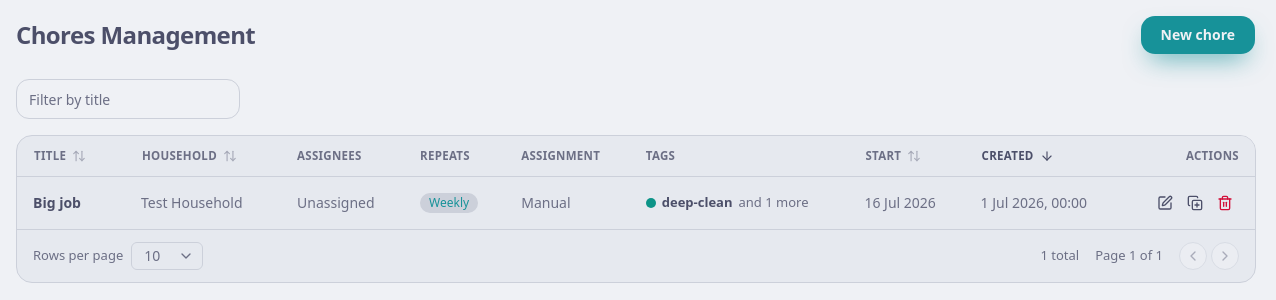
it: Chores › collapses many tags to the first plus an "and N more" hover tooltip
Expected: the text "and 1 more" is shown, [738, 193, 808, 212]
Expected: the text "shared" is not shown
Hover over the button "deep-clean and 1 more" at (727, 202), box [646, 193, 808, 212]
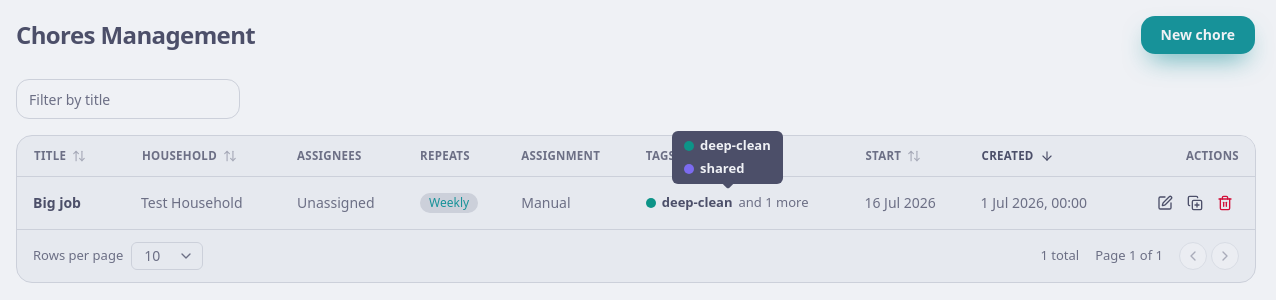
Now the text "deep-clean" is shown, box [684, 137, 771, 154]
Now the text "shared" is shown, box [684, 159, 744, 177]
